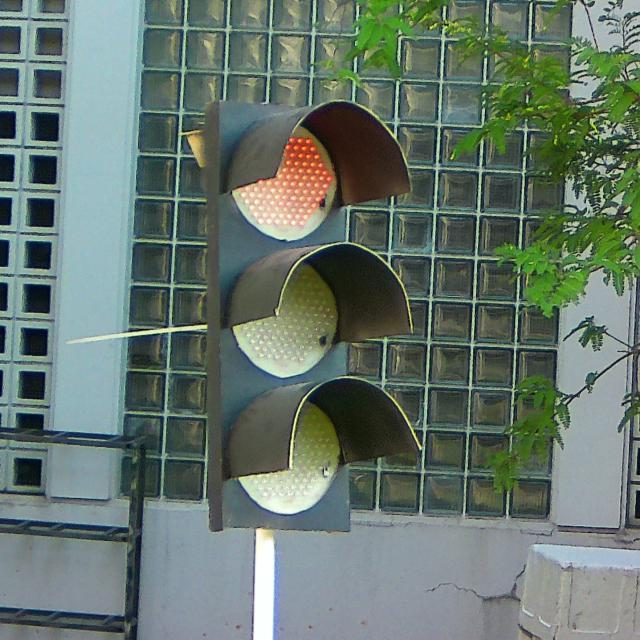red_light: (208, 102, 388, 533)
